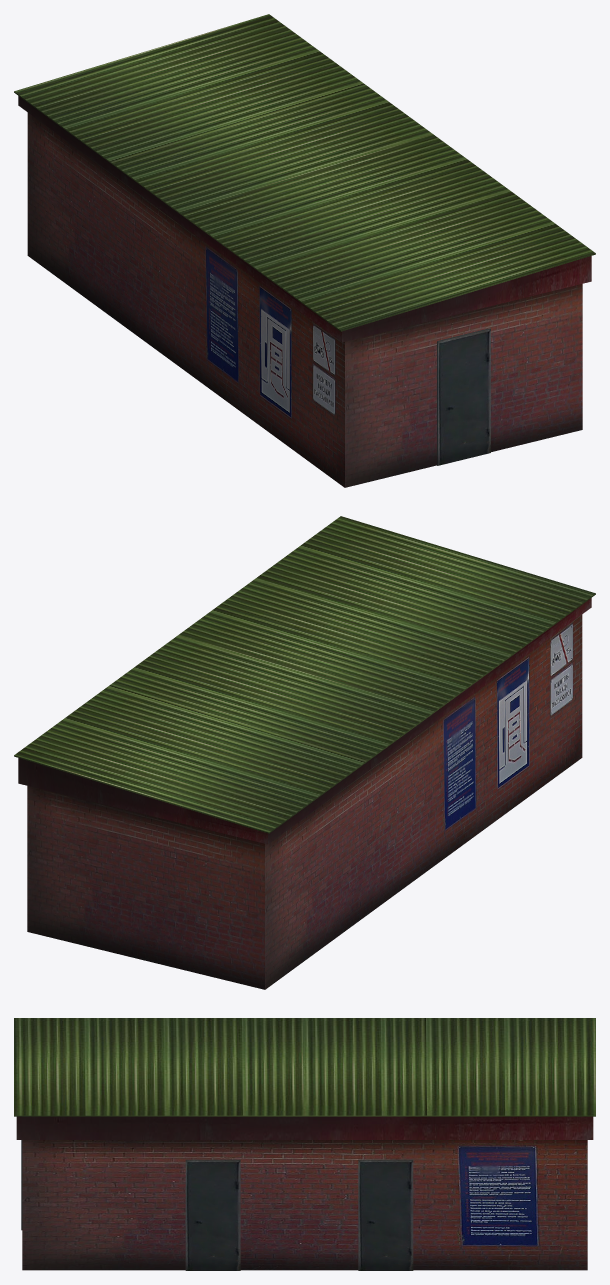
Rendered from r254_omskneft2.FBX.
3 views of the same model, one above another, from view 1: azimuth 30°, elevation 25°; view 2: azimuth 150°, elevation 25°; view 3: azimuth 270°, elevation 25° (orthographic). The views are drawn at different scales.
Visible parts, largest first — view 1: r254_omskneft2; view 2: r254_omskneft2; view 3: r254_omskneft2.
Boxes of the visible parts, x1,y1,x2,y2 form: r254_omskneft2: [14, 14, 595, 487]; r254_omskneft2: [14, 516, 595, 989]; r254_omskneft2: [14, 1018, 595, 1270].
Bounding box in the file's own units: 429 × 953 × 286.
